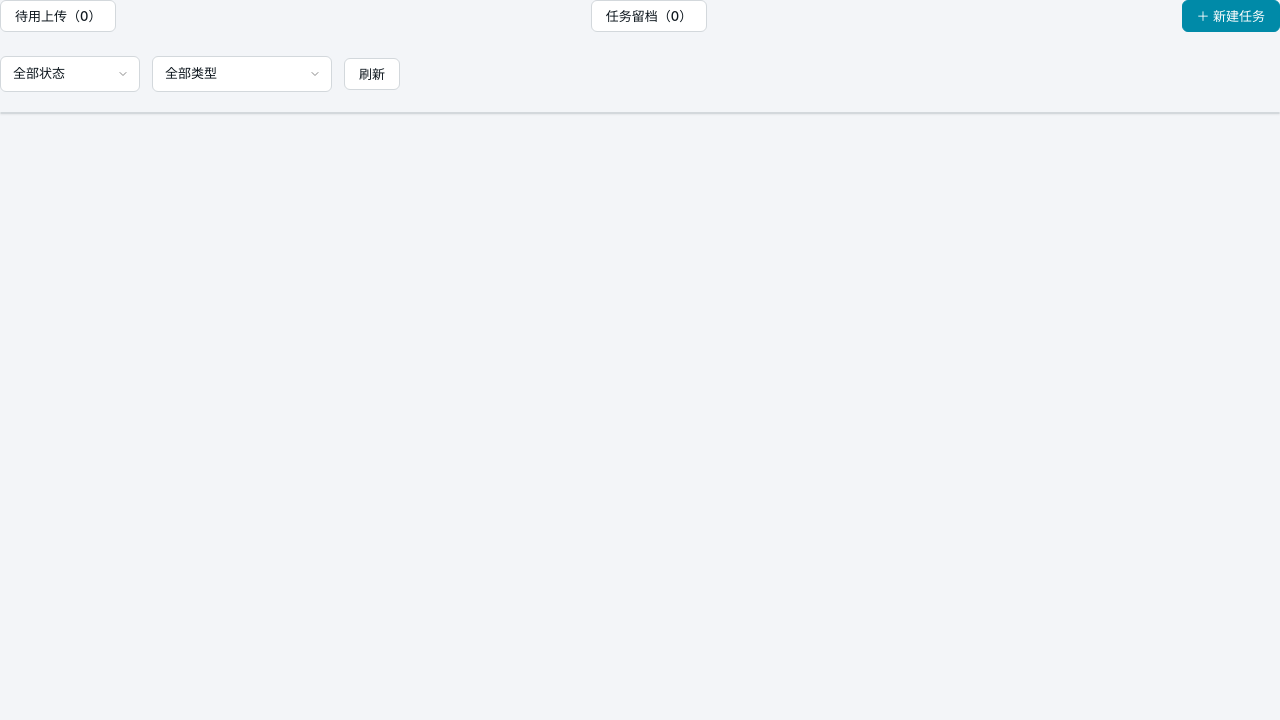
Test: NodeTaskCenter create-task flow › renders a 新建任务 button and opens the create modal
Click the button "＋ 新建任务" at (1231,16), box x1=1182 y1=0 x2=1279 y2=32
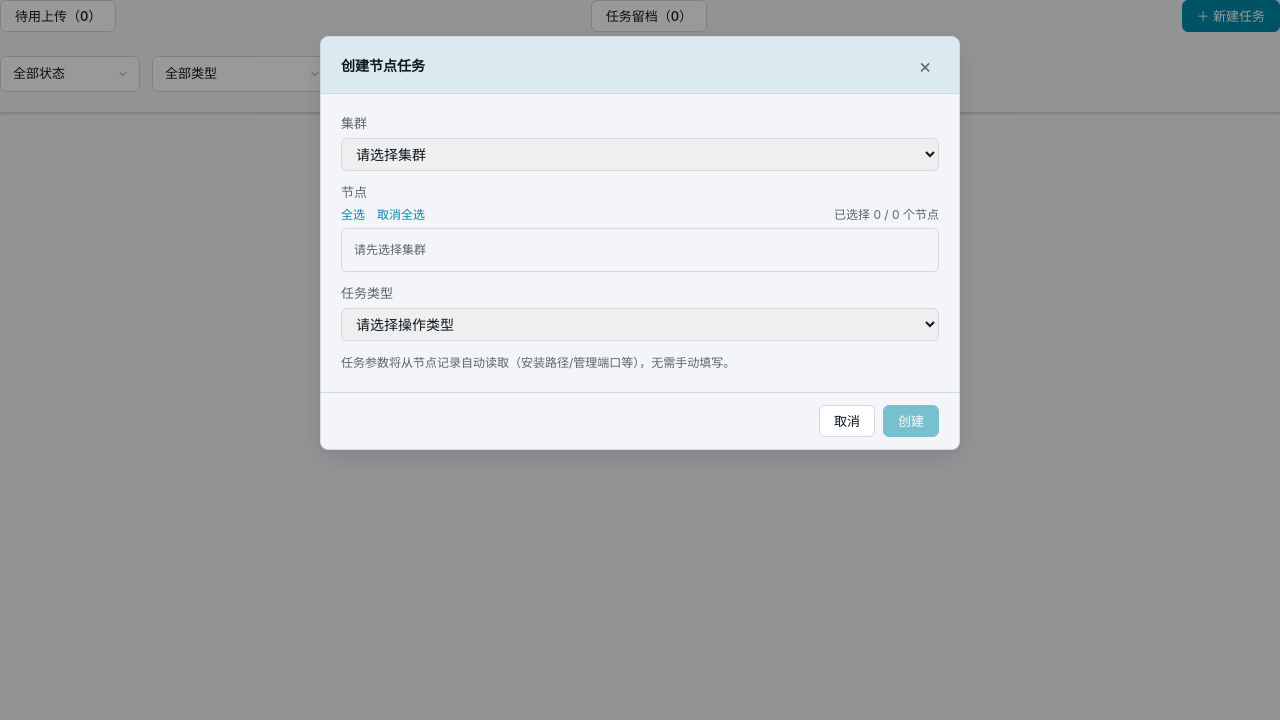
Now the text "创建节点任务" is shown, box x1=341 y1=54 x2=425 y2=76
